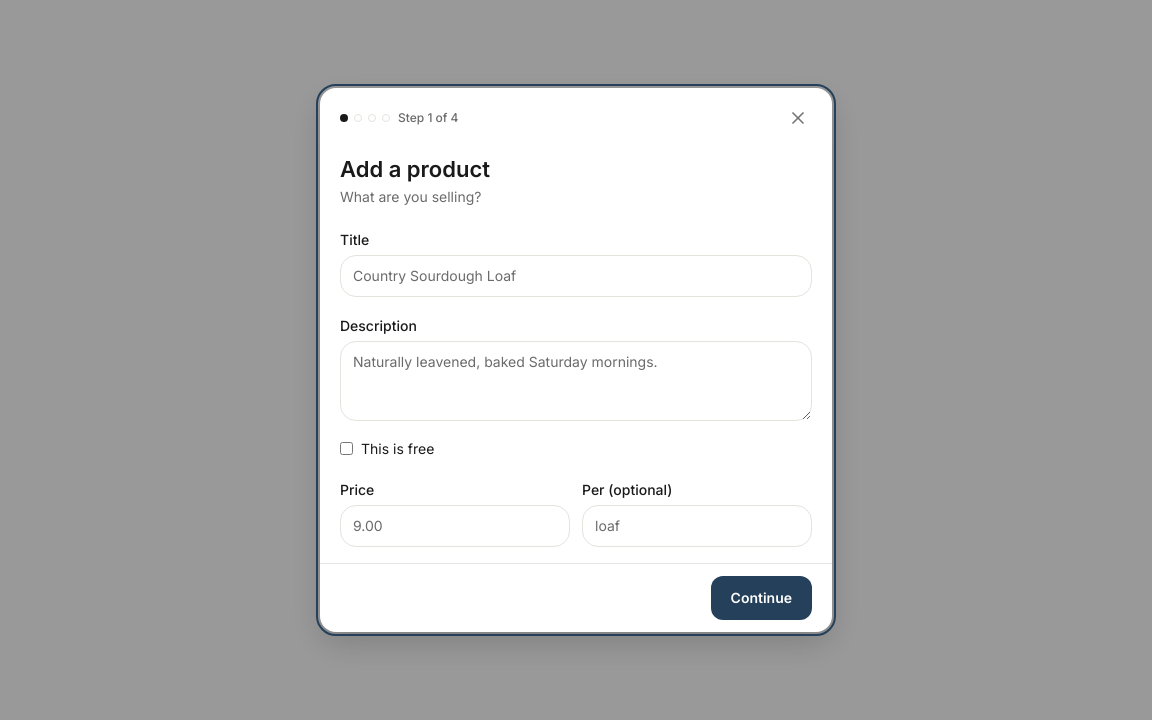
T142 — adding a new pickup Location requires a real address or neighbourhood › cannot save the new Location until a suggested address is chosen
Type "Loaf" into the field with test id "product-title-input".
click(576, 276); type("Loaf")  # box [340, 255, 812, 297]
Type "Sourdough." into the text box with test id "product-description-input".
click(576, 381); type("Sourdough.")  # box [340, 341, 812, 421]
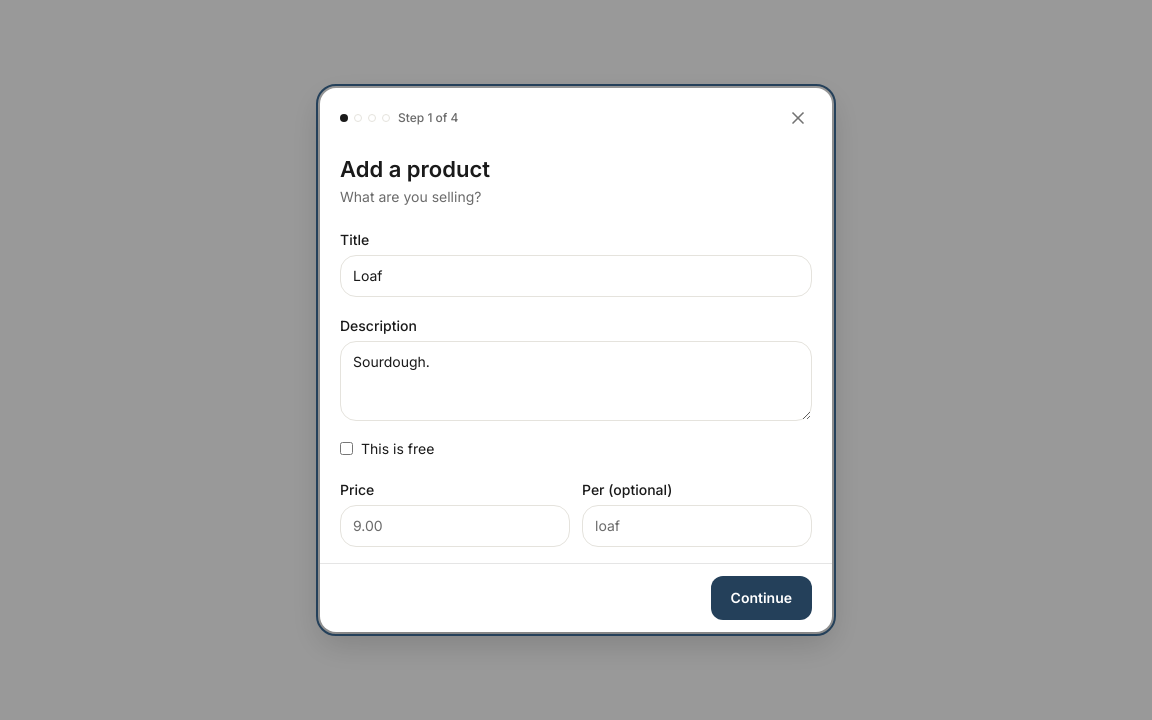
Type "9" into the field with test id "product-price-input".
click(455, 526); type("9")  # box [340, 505, 570, 547]
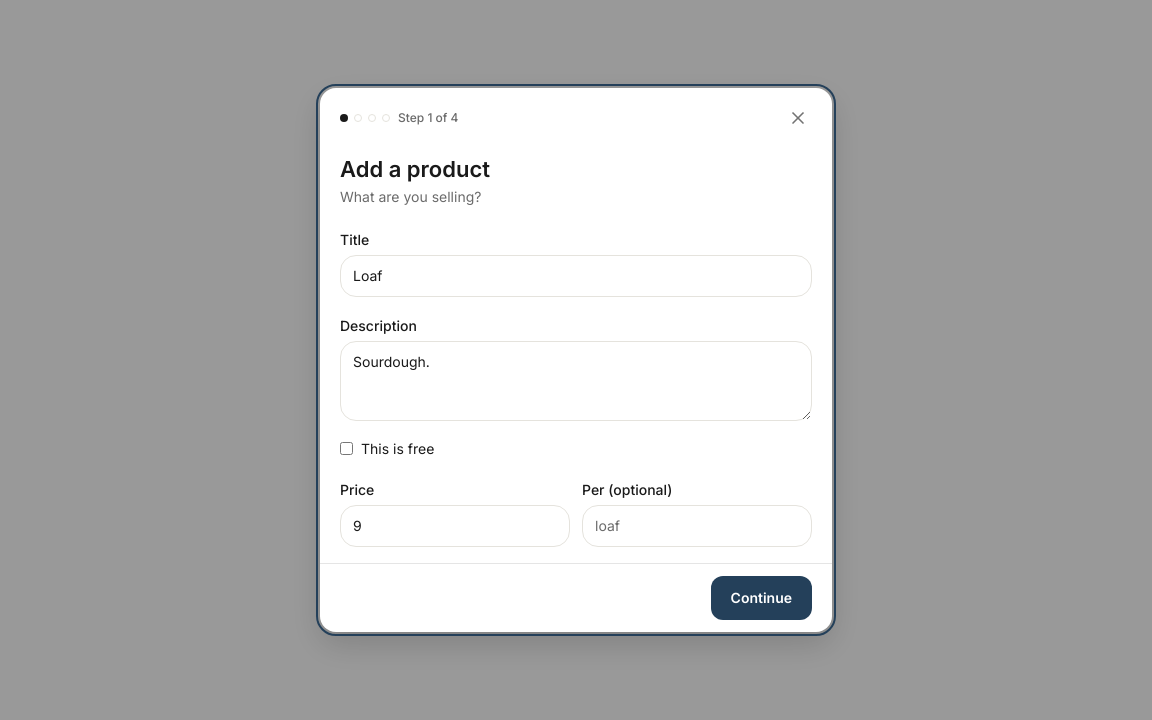
Click the button "Continue".
click(761, 598)  # box [711, 576, 812, 620]
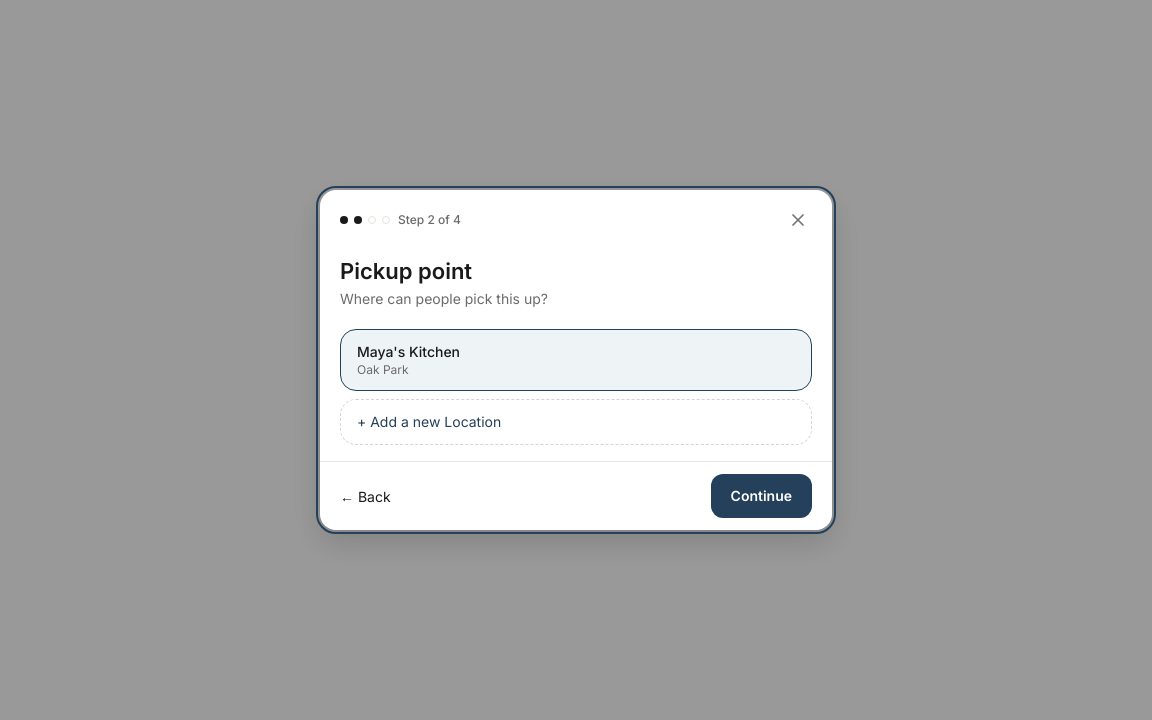
Expected: the list with test id "product-pickup-options" is shown, [340, 329, 812, 445]
Click the button with test id "product-pickup-add-new".
click(429, 422)  # box [340, 399, 812, 445]
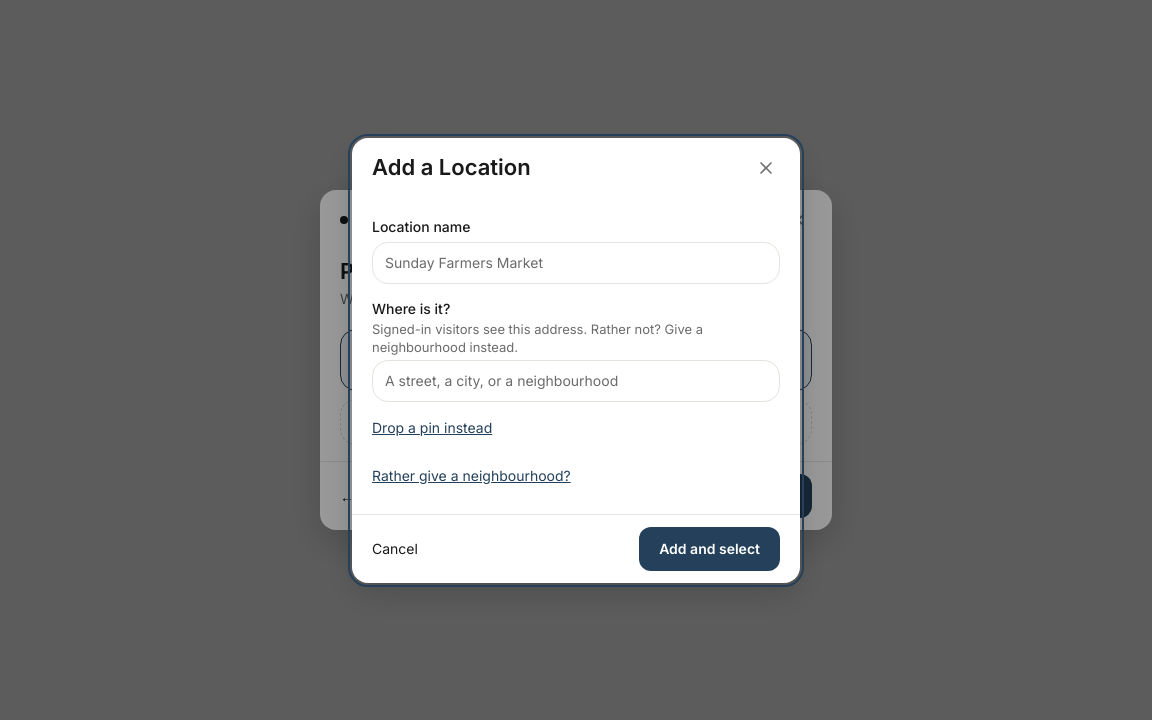
Type "Farmers Market" into the field with test id "product-add-location-input".
click(576, 262); type("Farmers Market")  # box [372, 242, 780, 284]
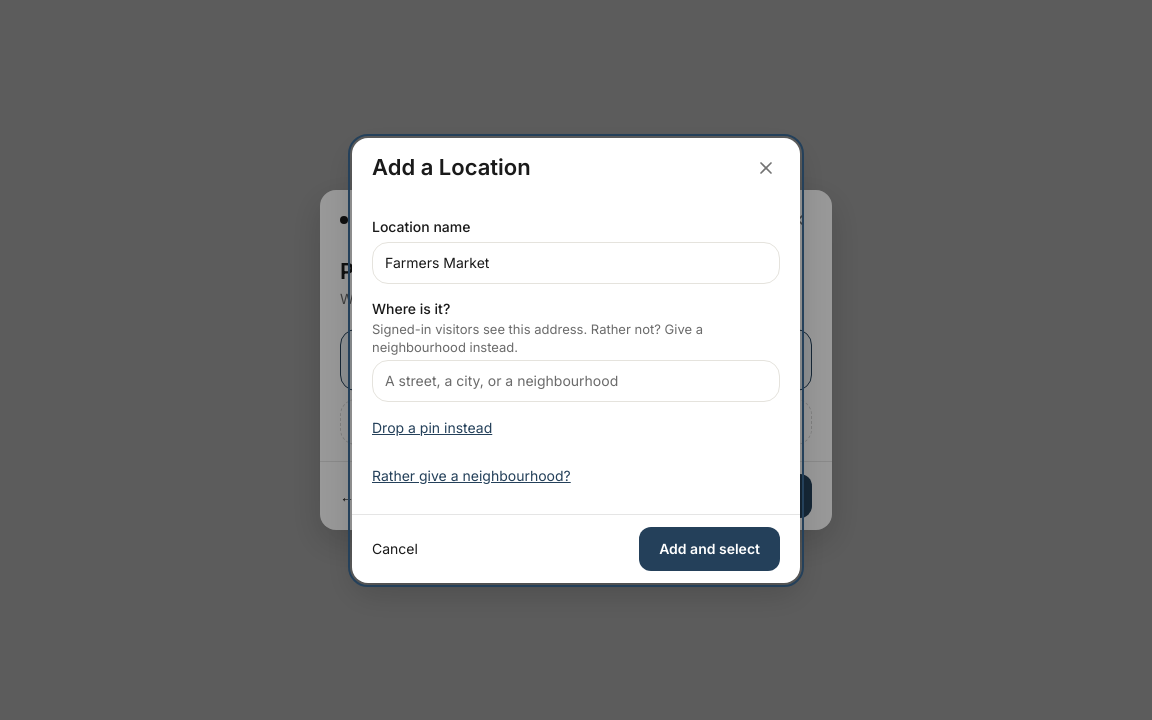
Click the button "Add and select".
click(710, 548)  # box [639, 526, 780, 570]
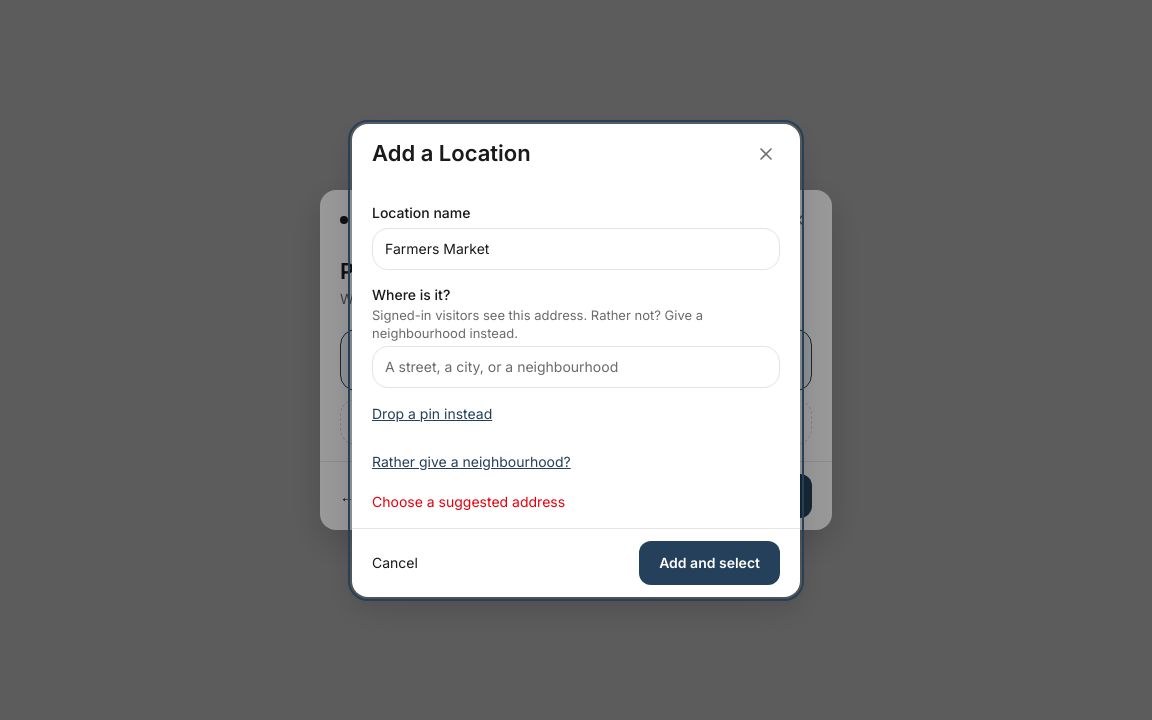
Expected: the text "Choose a suggested address" is shown, [372, 492, 565, 510]
